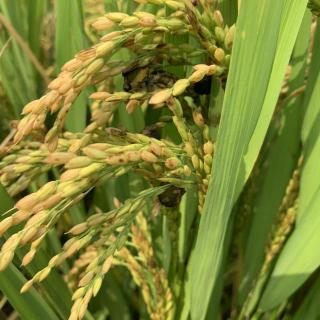Gosong-Palsu: (120, 62, 178, 94), (157, 175, 186, 209), (190, 66, 214, 96)
